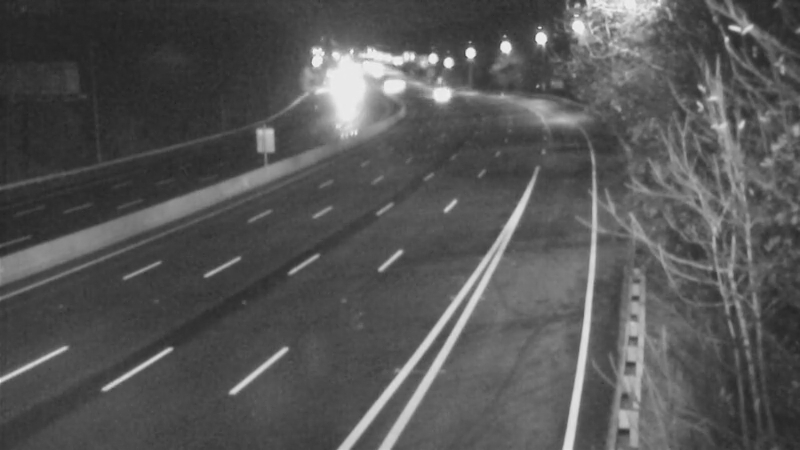vehicle: (364, 60, 414, 110), (412, 68, 462, 118), (317, 70, 367, 120)
